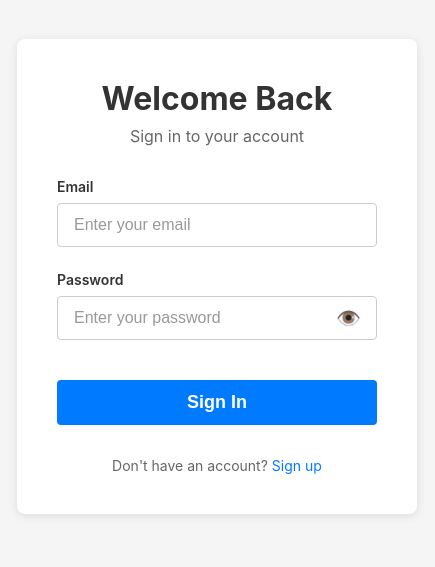
Test: Login Component › displays error message on login failure
Type "test@example.com" into the field labelled "Email". click: (217, 224)
box: [57,202,377,246]
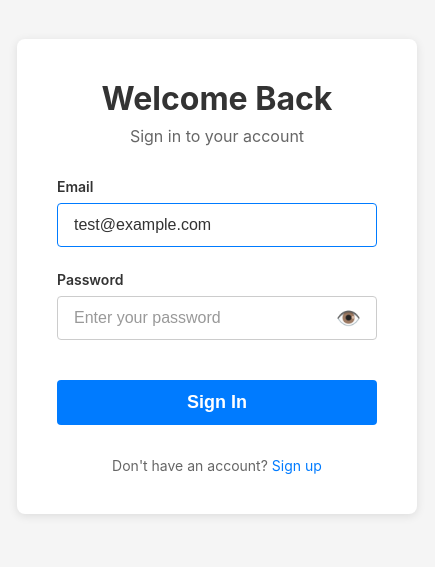
Type "WrongPassword" into the password field labelled "Password". click: (217, 318)
box: [57,296,377,340]
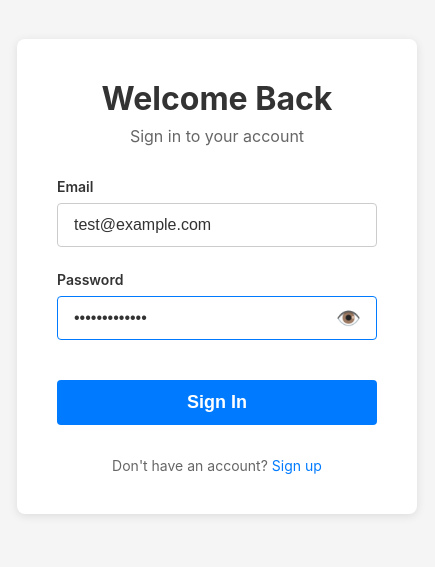
Click the button "Sign In". click: (217, 402)
box: [57,380,377,424]
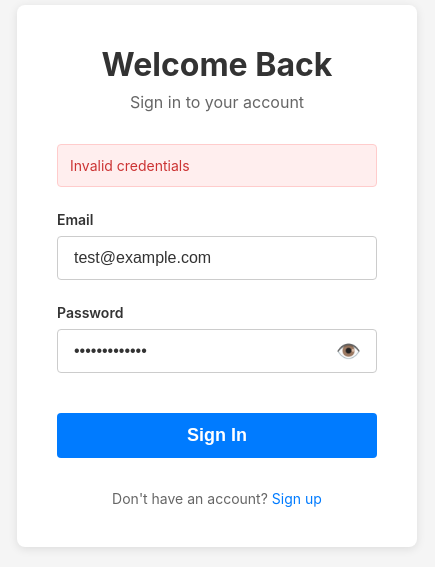
Result: the message "Invalid credentials" is shown at [57,144,377,187]
